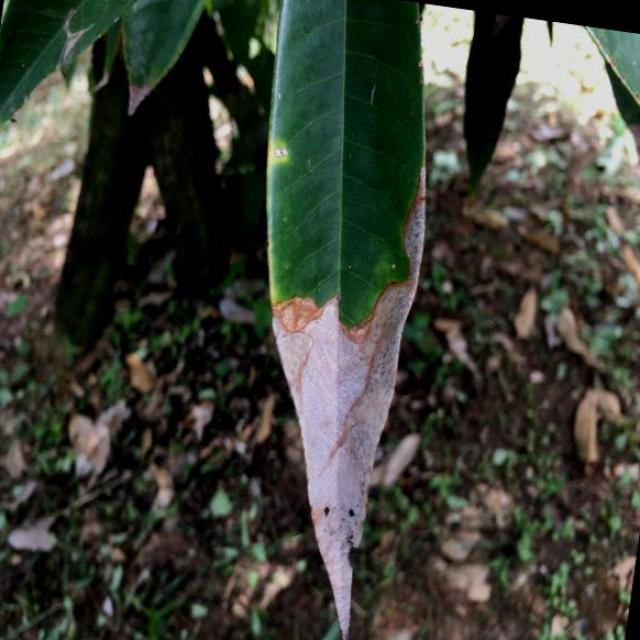Leaf Blight: (184, 0, 468, 640)
